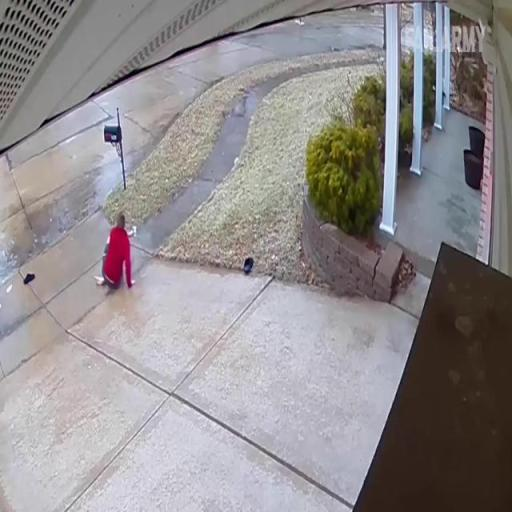Fall: (100, 215, 137, 292)
